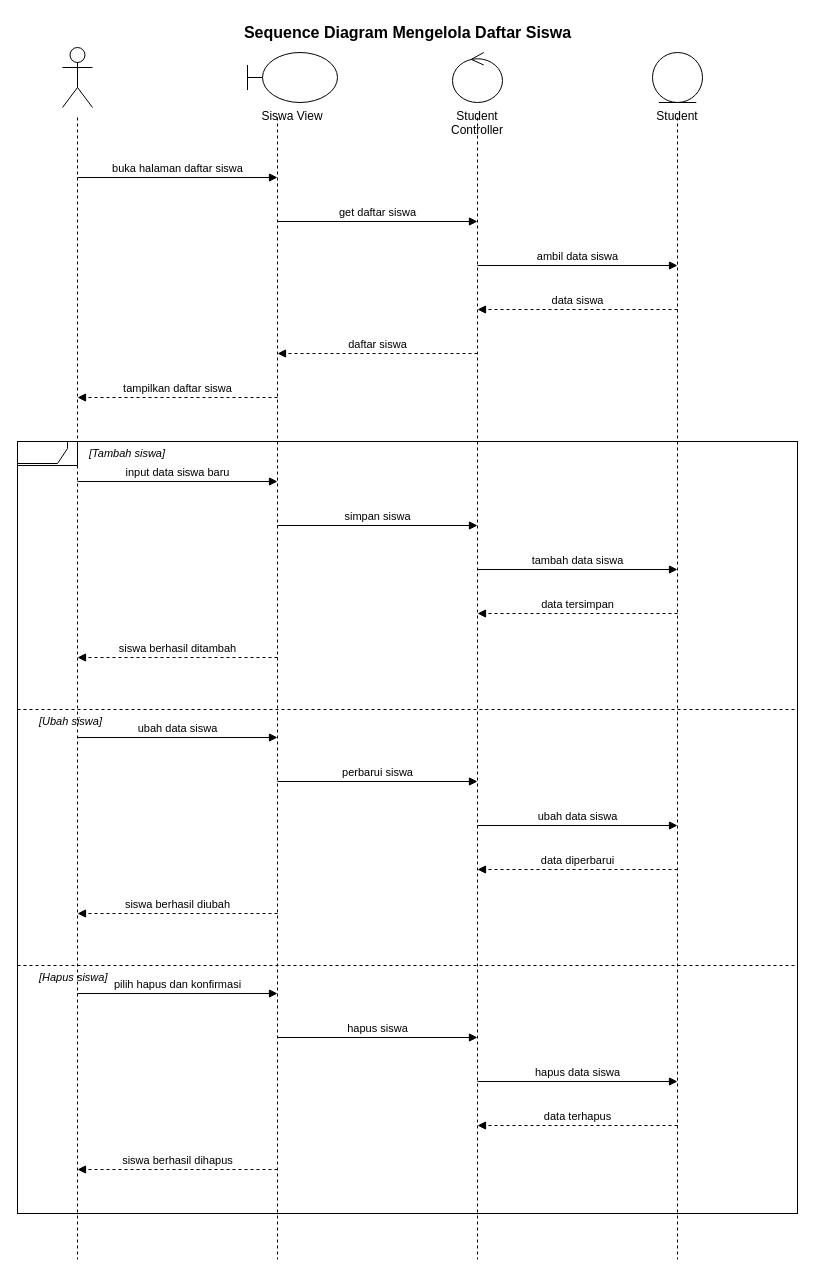
Image size: 816x1278. Some labels were removed from this diagram. The centre of each missing label's shape, as x and y in pixels:
"Admin" belongs at point (77, 77).
"alt" belongs at point (47, 453).
